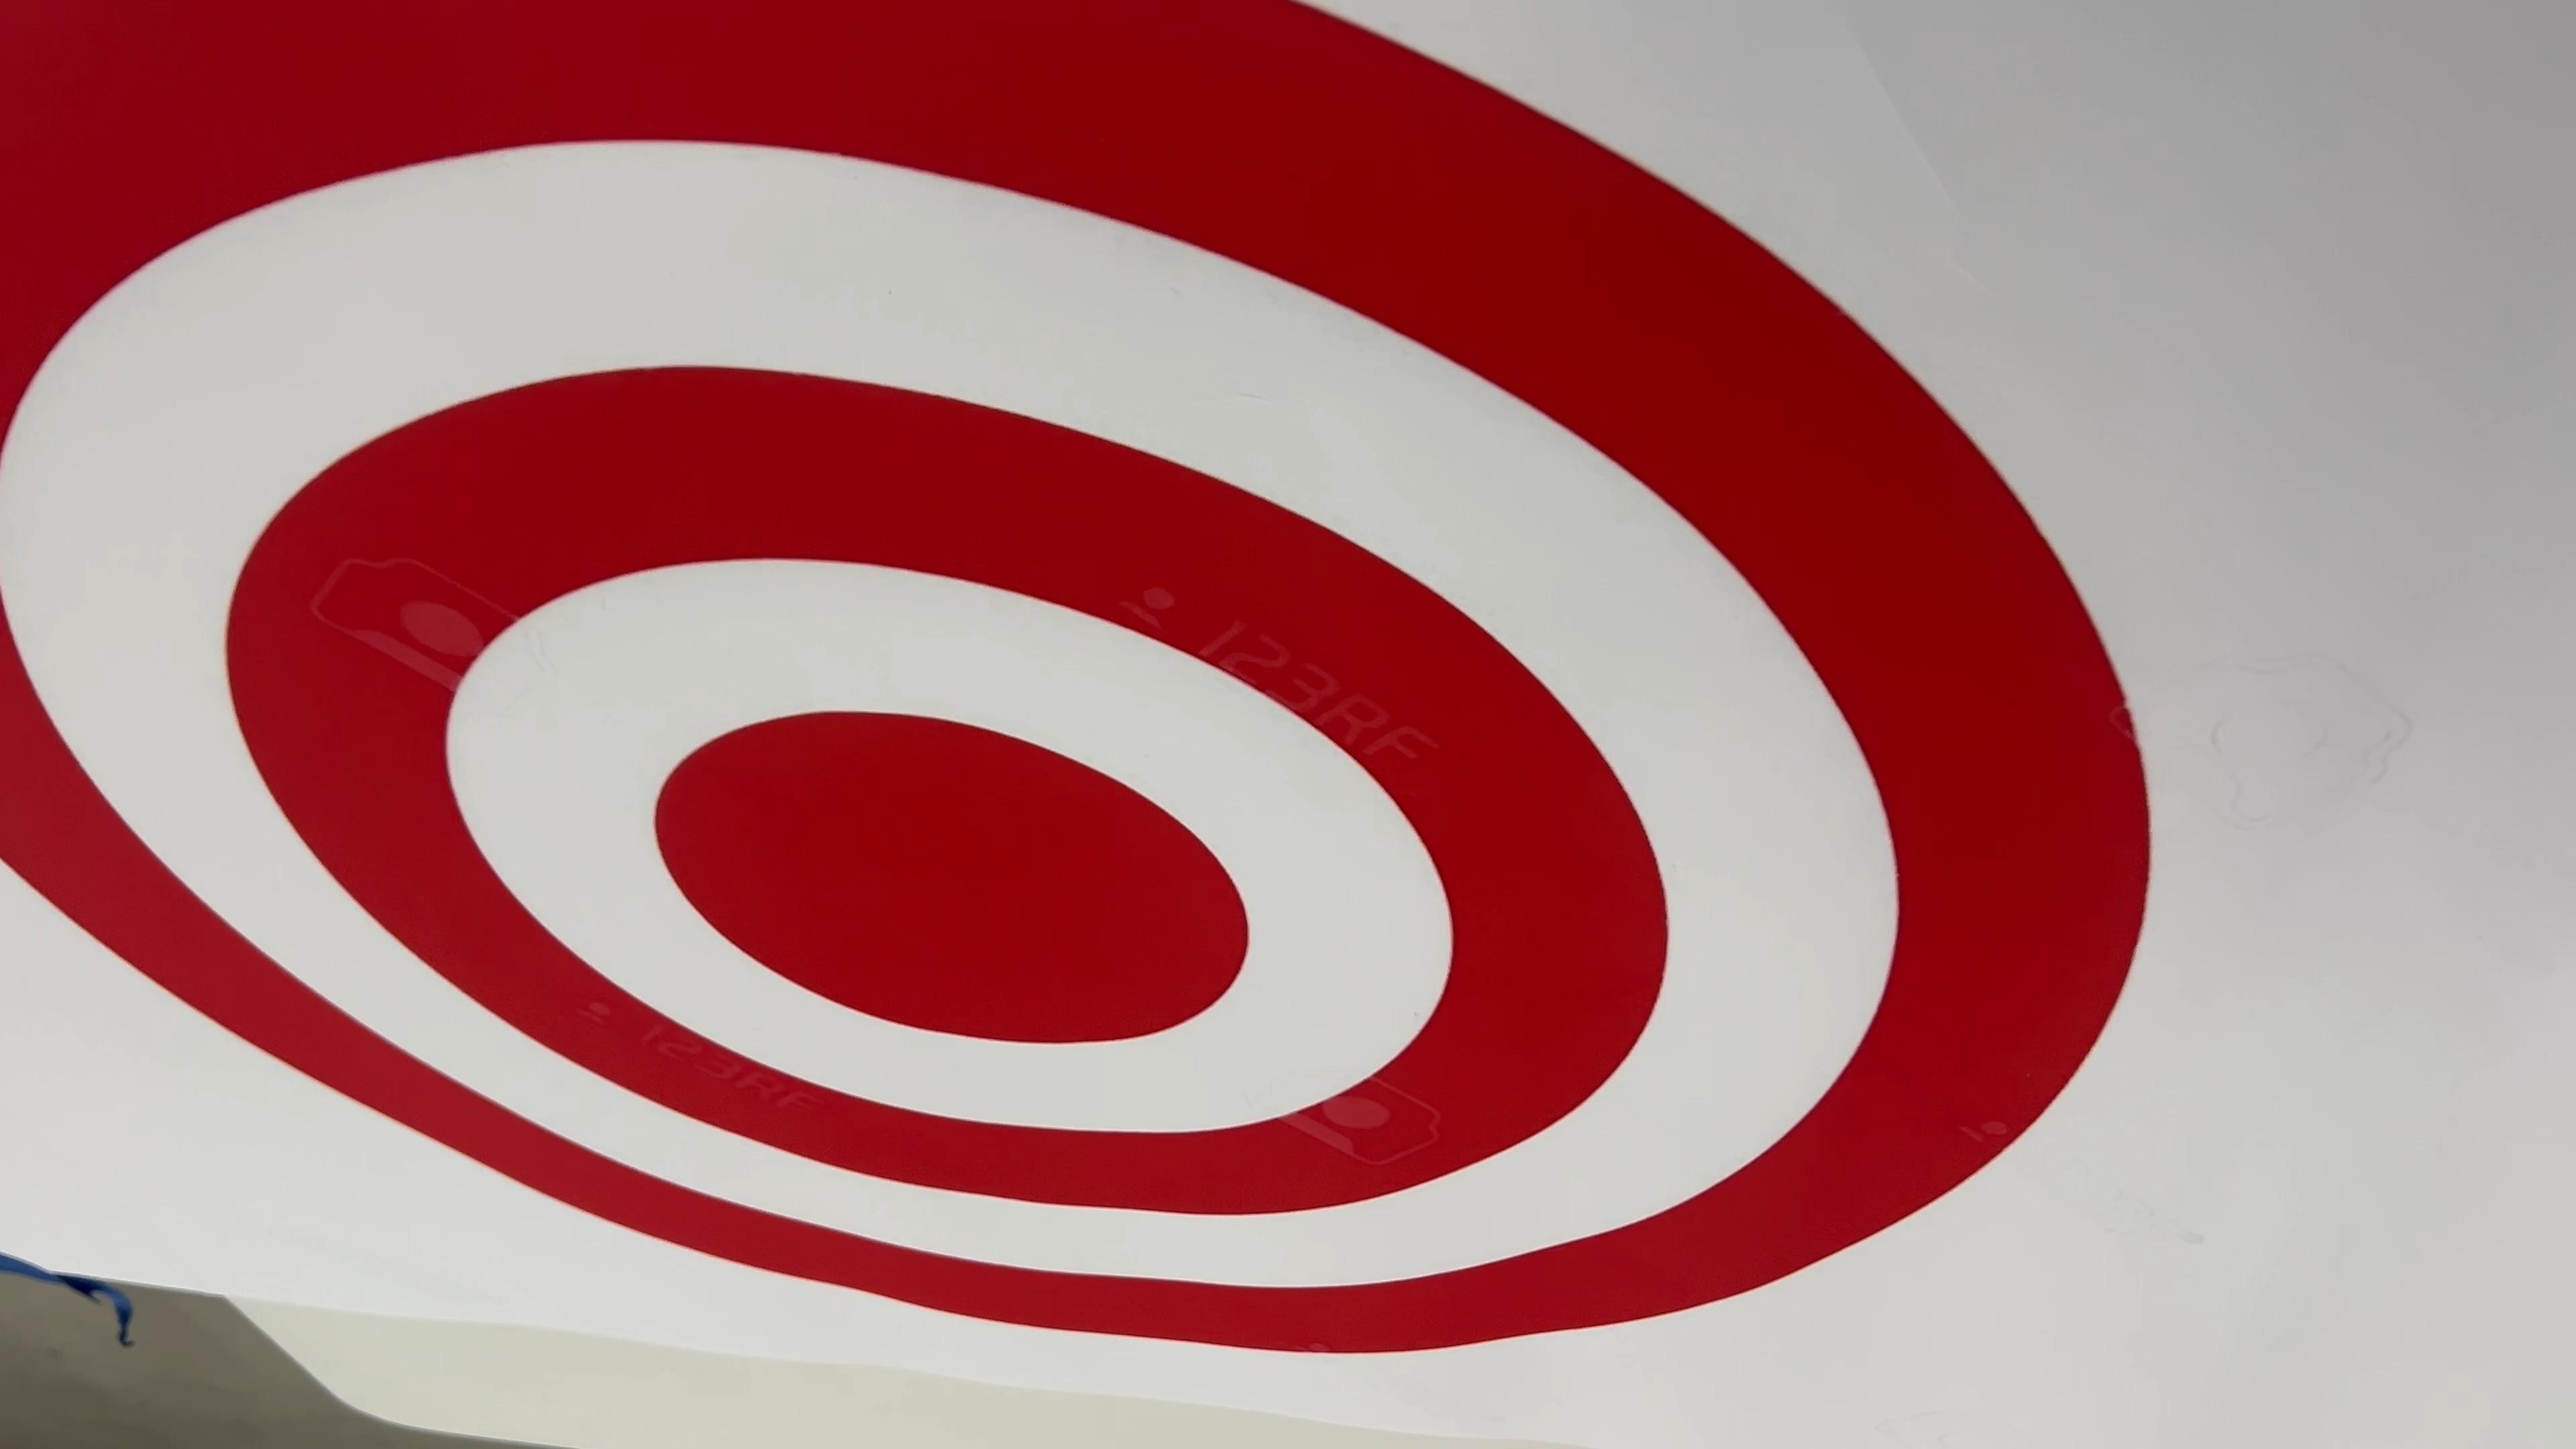target_red: (0, 0, 2181, 1376)
